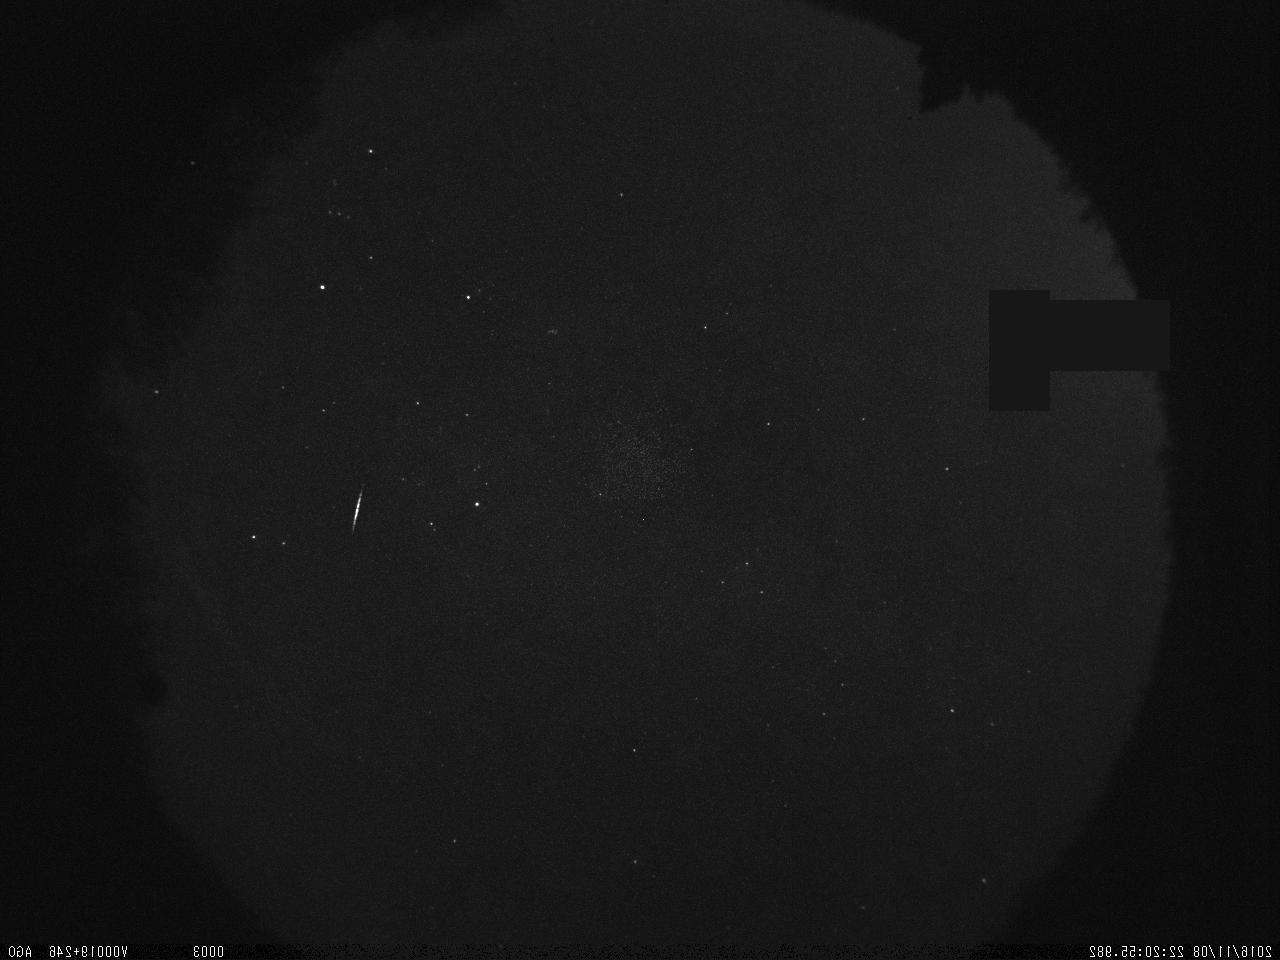meteor: (343, 467, 374, 538)
